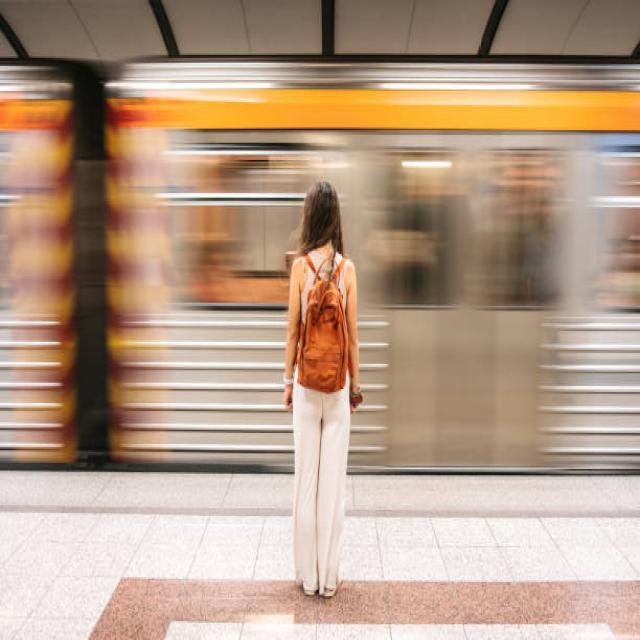stand: (281, 177, 358, 615)
